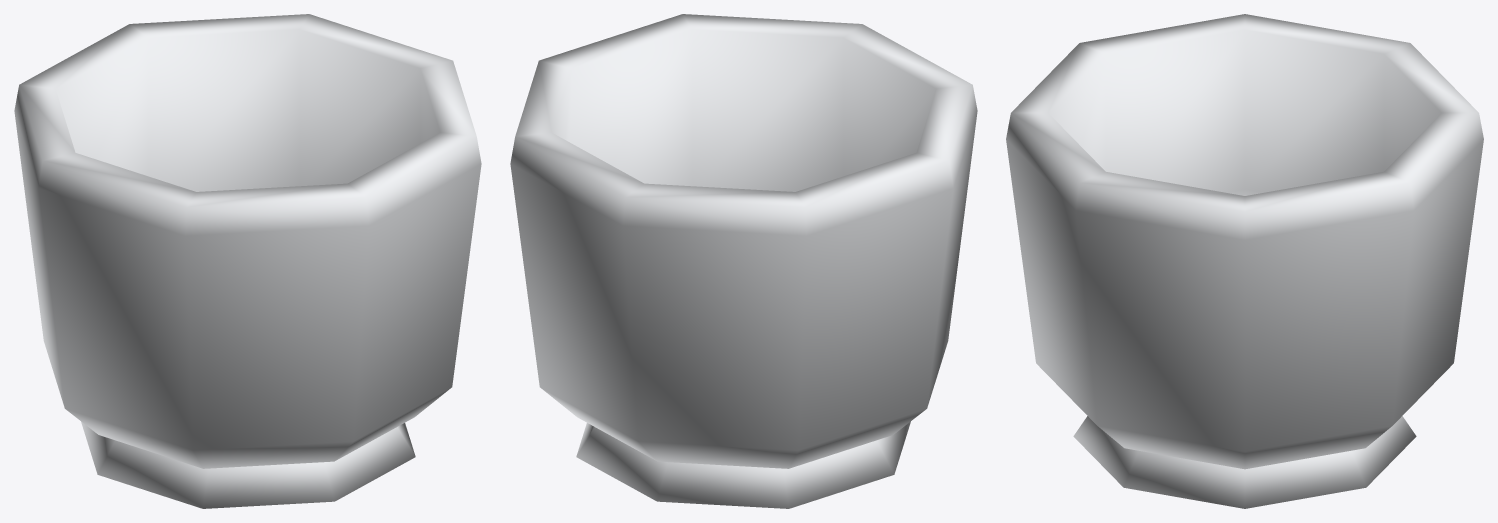
File: cutensil_grind_mortar.glb
3 views of the same model, side by side, from view 1: azimuth 30°, elevation 25°; view 2: azimuth 150°, elevation 25°; view 3: azimuth 270°, elevation 25° (orthographic).
Parts seen in each view (by area): view 1: cutensil grind mortar; view 2: cutensil grind mortar; view 3: cutensil grind mortar.
Boxes of the visible parts, x1,y1,x2,y2 form: cutensil grind mortar: (14,14,481,508); cutensil grind mortar: (510,14,977,508); cutensil grind mortar: (1006,14,1483,508).
Bounding box in the file's own units: 2.04 × 1.52 × 2.04.
Materials: 1 (1 with a texture image).
